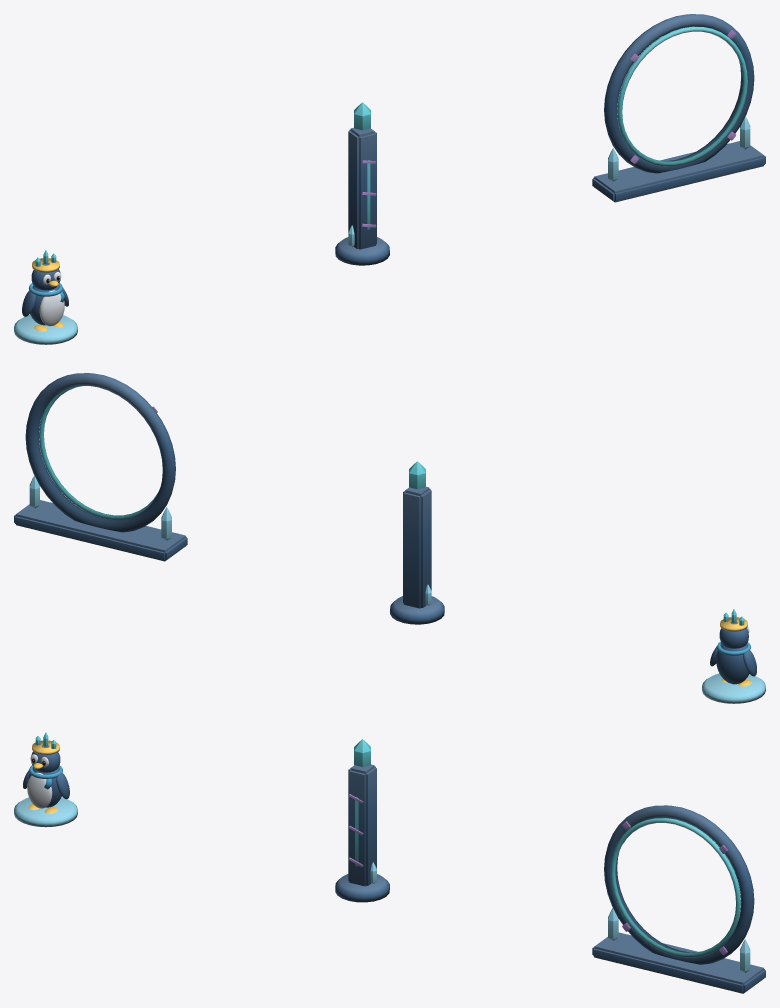
File: Portal.fbx
3 views of the same model, one above another, from view 1: azimuth 30°, elevation 25°; view 2: azimuth 150°, elevation 25°; view 3: azimuth 330°, elevation 25° (orthographic).
Parts seen in each view (by area): view 1: Portal_CrystalHalo, Portal_AuroraObelisk, Portal_CrystalGuardian; view 2: Portal_CrystalHalo, Portal_AuroraObelisk, Portal_CrystalGuardian; view 3: Portal_CrystalHalo, Portal_AuroraObelisk, Portal_CrystalGuardian.
Part boxes in pixels (x1=…): Portal_CrystalHalo: x1=592, y1=14, x2=765, y2=202; Portal_AuroraObelisk: x1=335, y1=102, x2=389, y2=265; Portal_CrystalGuardian: x1=14, y1=250, x2=77, y2=344; Portal_CrystalHalo: x1=14, y1=373, x2=187, y2=561; Portal_AuroraObelisk: x1=390, y1=461, x2=444, y2=624; Portal_CrystalGuardian: x1=702, y1=609, x2=765, y2=703; Portal_CrystalHalo: x1=592, y1=805, x2=765, y2=993; Portal_AuroraObelisk: x1=335, y1=739, x2=389, y2=902; Portal_CrystalGuardian: x1=14, y1=732, x2=77, y2=827.
Size of the model in its own units: 55.9 by 11.65 by 4.2.
1 material, 1 textured.
